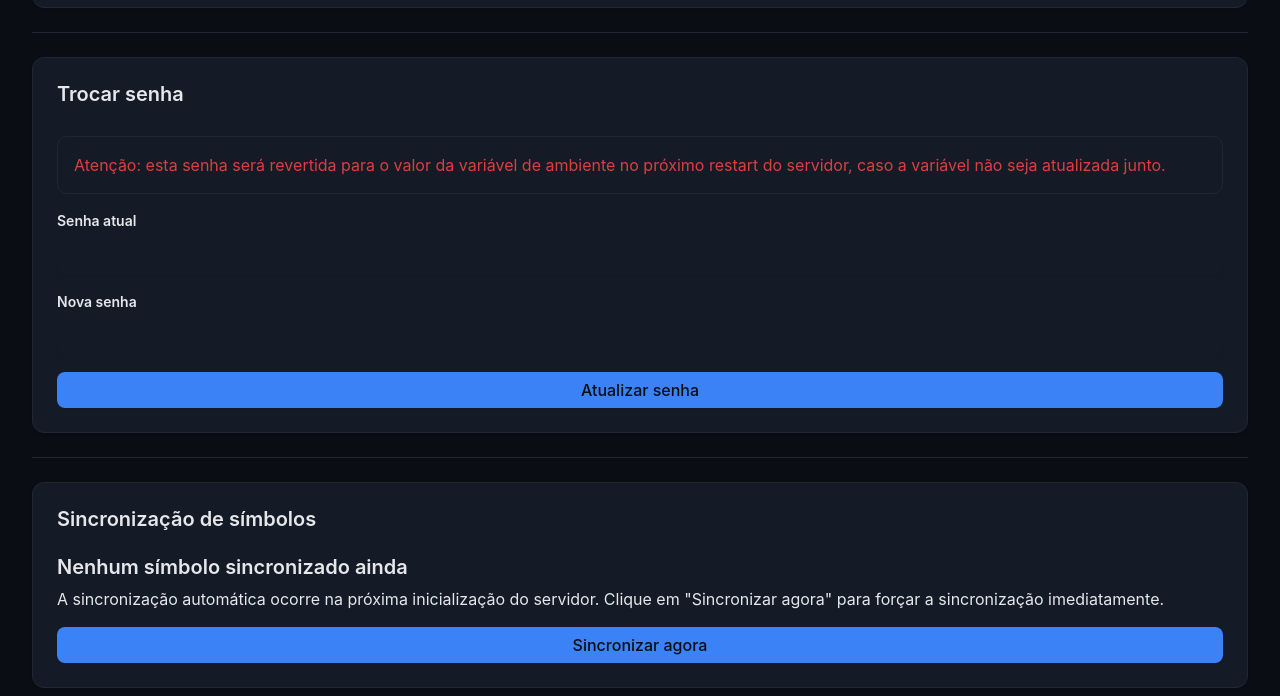
Test: Symbols panel › renders the exchange-unavailable message and the retry badge on a 503 sync failure
(page scrolled)
Expected: the text "Sincronização de símbolos" is shown, [57,507,316,531]
Click the button "Sincronizar agora".
click(640, 645)  # box [57,627,1223,663]
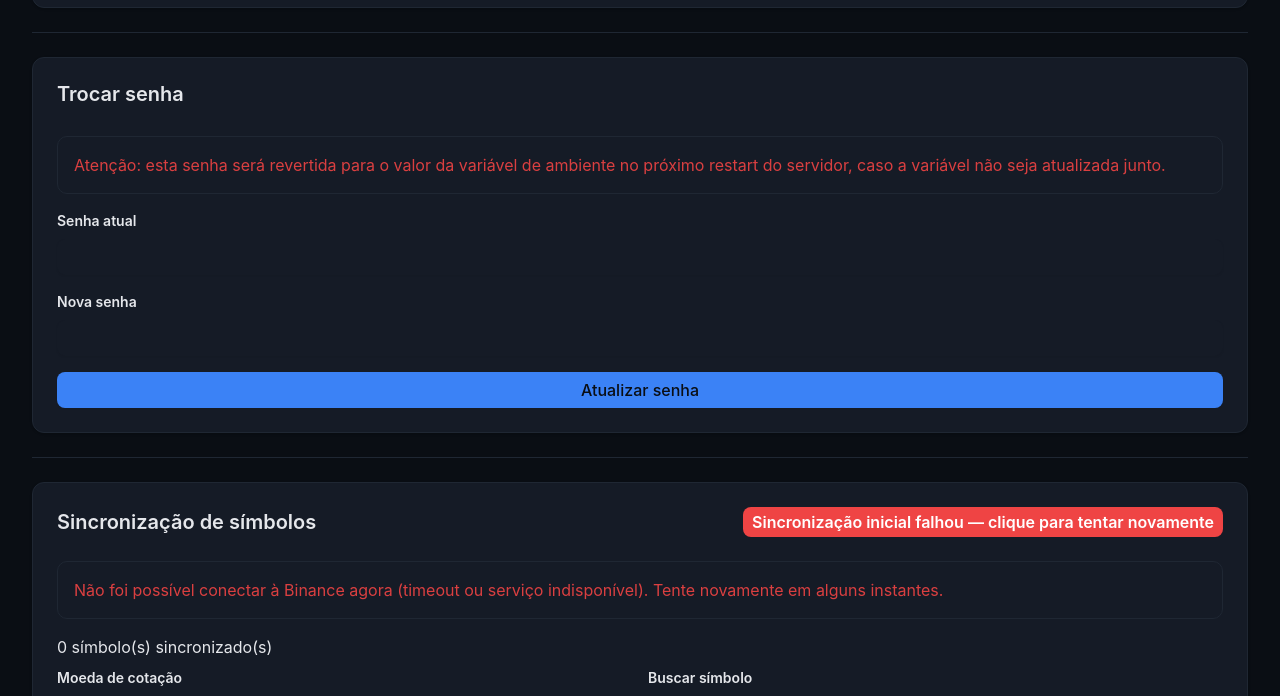
Expected: the text "Não foi possível conectar à Binance agora (timeout ou serviço indisponível). Tente novamente em alguns instantes." is shown, [74,580,943,600]
Expected: the button "Sincronização inicial falhou — clique para tentar novamente" is shown, [743,507,1223,537]
